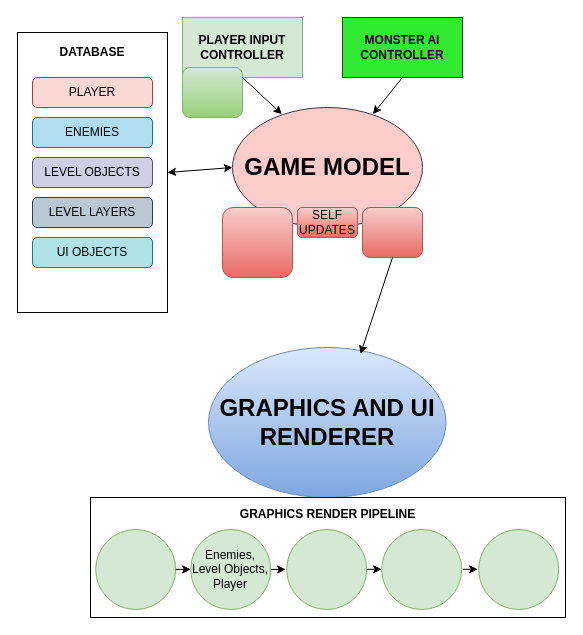
This 583x635 diagram has some shape labels left out. Here are the shapes that lost their labels. From the top down, the centre of each, then its label:
At pixel 212 92: "PYGAME EVENT GETTER".
At pixel 257 242: "RECEIVES PLAYER AND AI REQUESTS".
At pixel 392 232: "SENDS DATA RENDER".
At pixel 135 569: "Backgrounds 0 - 5".
At pixel 326 569: "Effects".
At pixel 421 569: "Foreground 6 - 7".
At pixel 518 569: "UI".
